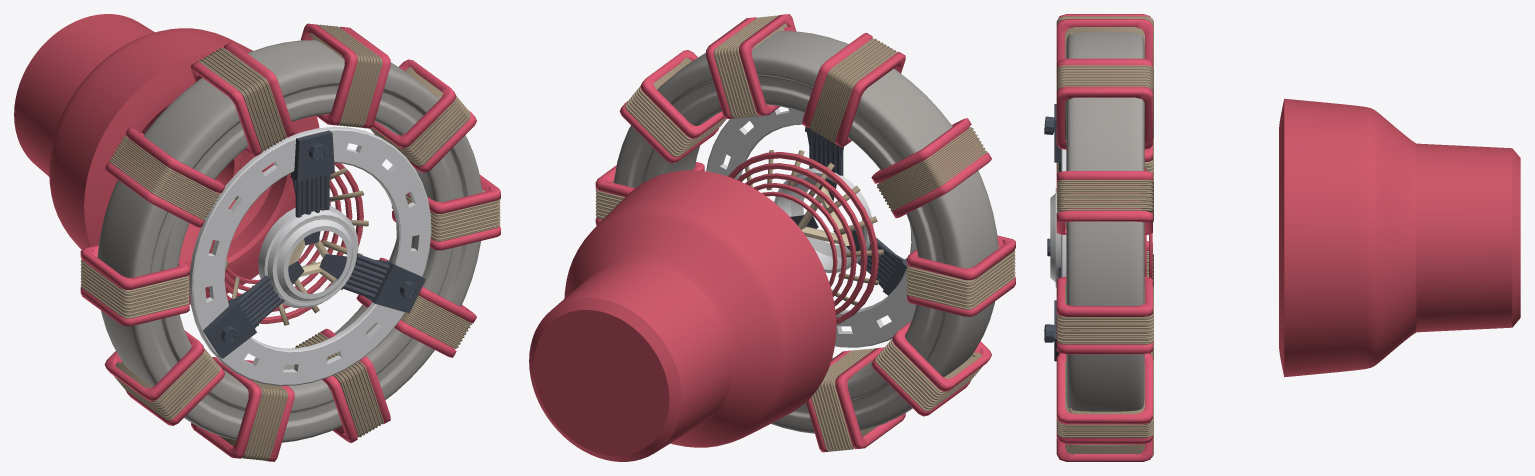
Rendered from arc-reactor.glb.
The picture shows the model from 3 angles, left to right: view 1: azimuth 30°, elevation 25°; view 2: azimuth 150°, elevation 25°; view 3: azimuth 270°, elevation 25°; orthographic projection.
Parts seen in each view (by area): view 1: EMRchamber, Cylinder, solenoid.001, PlasticHolder.008, HOleWheel, Holer, CenterBlock, CoolingBlok, Support, Torus.001; view 2: Cylinder, EMRchamber, solenoid.001, PlasticHolder.008, CoolingBlok, HOleWheel, Holer, CenterBlock, Support, Torus.001; view 3: Cylinder, EMRchamber, PlasticHolder.008, solenoid.001, Holer, CenterBlock.
Part boxes in pixels (bbox=[...]): EMRchamber: bbox=[97, 40, 482, 442]; Cylinder: bbox=[14, 14, 319, 304]; solenoid.001: bbox=[80, 24, 500, 460]; PlasticHolder.008: bbox=[80, 23, 500, 461]; HOleWheel: bbox=[189, 126, 431, 385]; Holer: bbox=[203, 130, 425, 358]; CenterBlock: bbox=[258, 205, 358, 308]; CoolingBlok: bbox=[206, 163, 363, 323]; Support: bbox=[225, 168, 368, 325]; Torus.001: bbox=[288, 239, 328, 276]; Cylinder: bbox=[529, 170, 836, 461]; EMRchamber: bbox=[614, 31, 998, 433]; solenoid.001: bbox=[595, 15, 1015, 451]; PlasticHolder.008: bbox=[595, 14, 1015, 452]; CoolingBlok: bbox=[728, 152, 878, 324]; HOleWheel: bbox=[706, 108, 916, 347]; Holer: bbox=[790, 126, 907, 295]; CenterBlock: bbox=[774, 168, 873, 273]; Support: bbox=[745, 150, 883, 317]; Torus.001: bbox=[798, 186, 849, 245]; Cylinder: bbox=[1279, 98, 1520, 377]; EMRchamber: bbox=[1066, 31, 1144, 445]; PlasticHolder.008: bbox=[1056, 14, 1152, 461]; solenoid.001: bbox=[1057, 16, 1153, 457]; Holer: bbox=[1044, 104, 1061, 361]; CenterBlock: bbox=[1050, 188, 1061, 287].
Bounding box in the file's own units: 1.75 × 1.72 × 1.87.
